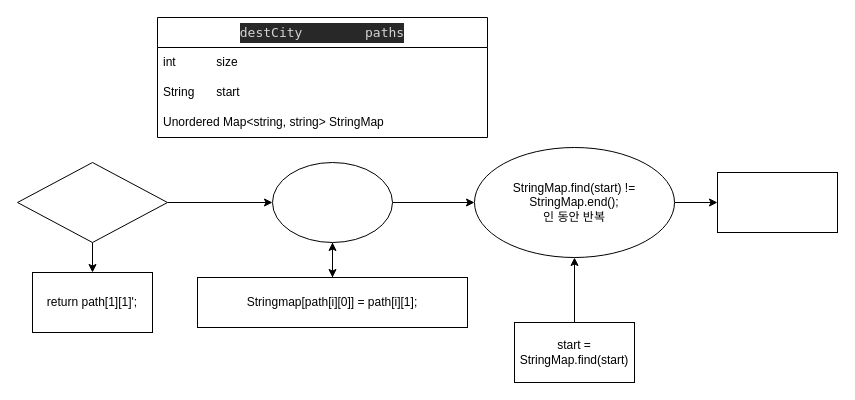
This 855x400 diagram has some shape labels left out. Each missing label, with the box of its shape:
return start;: (716, 172, 838, 232)
size가 1인가?: (16, 162, 168, 242)
size동안 반복: (272, 162, 392, 242)
